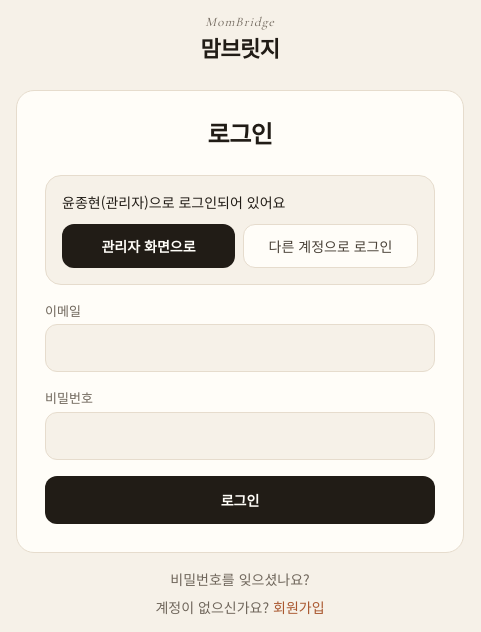
Scenario: 로그인 화면 › '다른 계정으로 로그인'을 누르면 로그아웃하고 폼만 남는다
Click the button "다른 계정으로 로그인" at (330, 246), box [243,224,418,268]
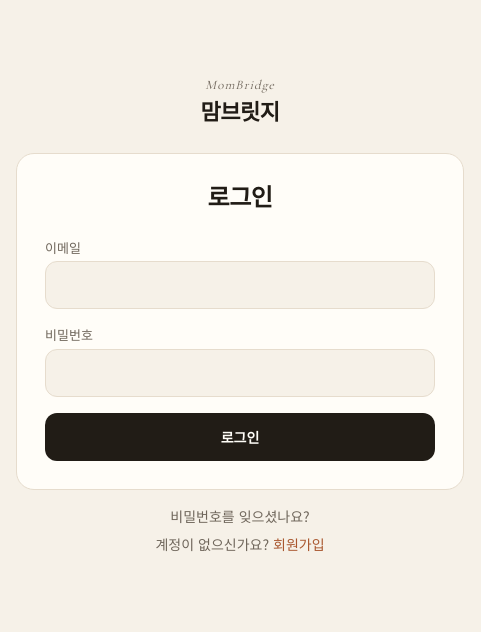
Check: the field labelled "이메일" is shown, box [45,261,435,309]
Check: the text "으로 로그인되어 있어요" is gone
